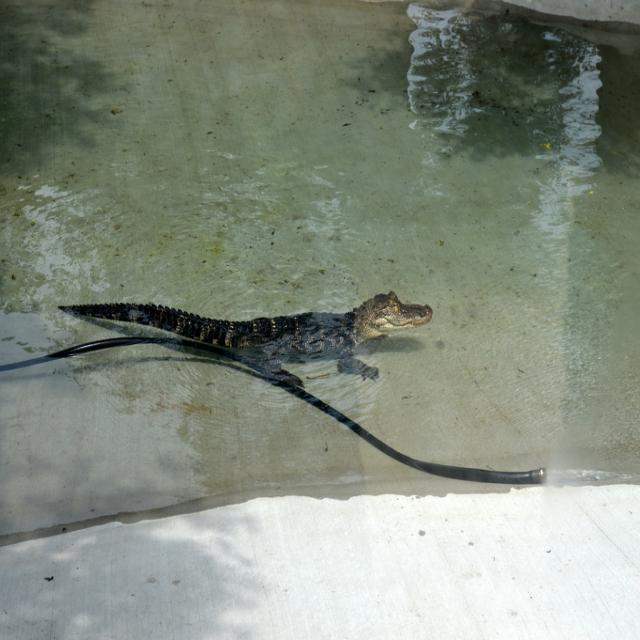crocodile: (75, 291, 431, 387)
